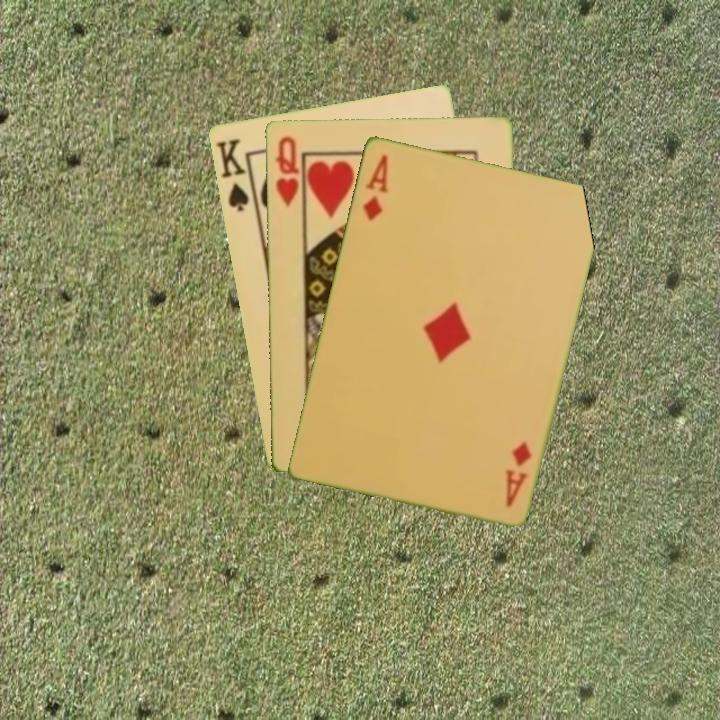Ad: (501, 437, 534, 510), (359, 150, 391, 223)
Ks: (212, 134, 252, 214)
Qh: (271, 132, 302, 210)
